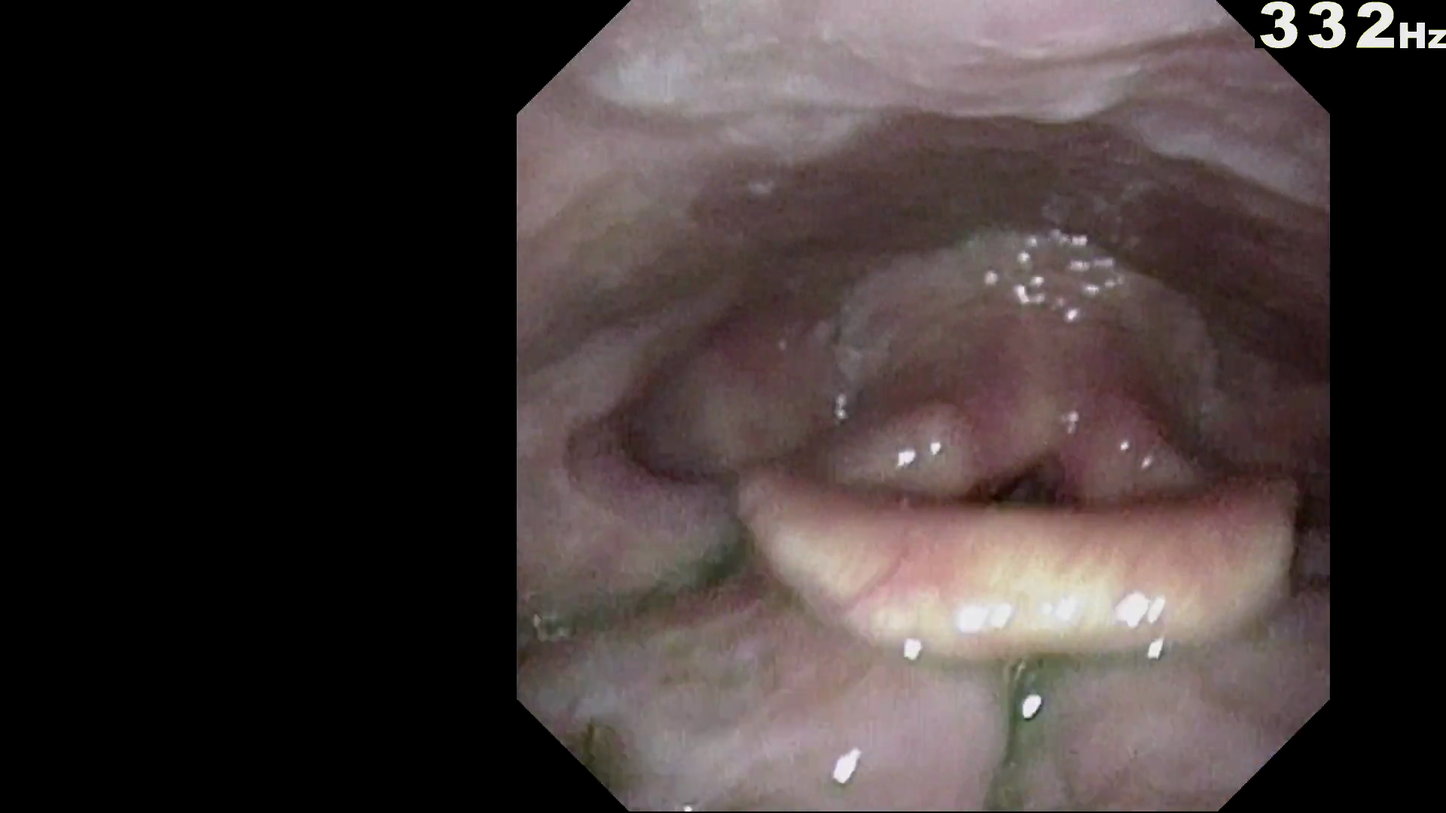epiglottis: (689, 482, 1311, 659)
trachea: (968, 422, 1090, 542)
